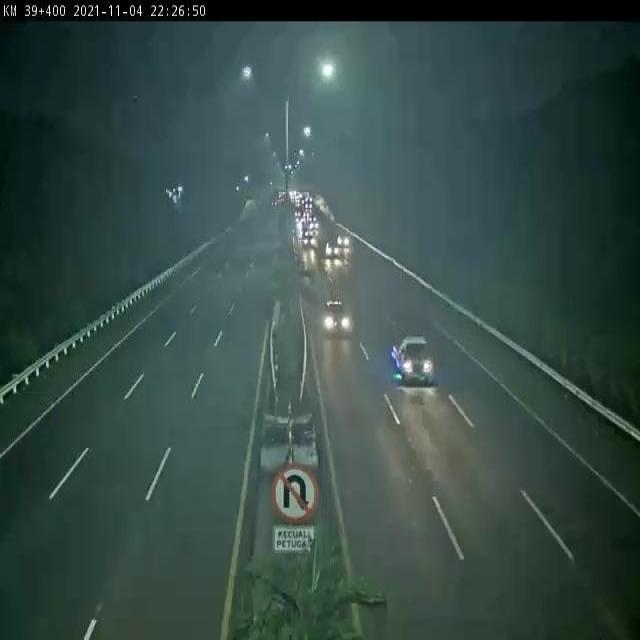Car: (388, 334, 443, 398), (316, 296, 362, 349), (323, 238, 343, 267), (334, 225, 351, 252), (300, 232, 320, 253)
